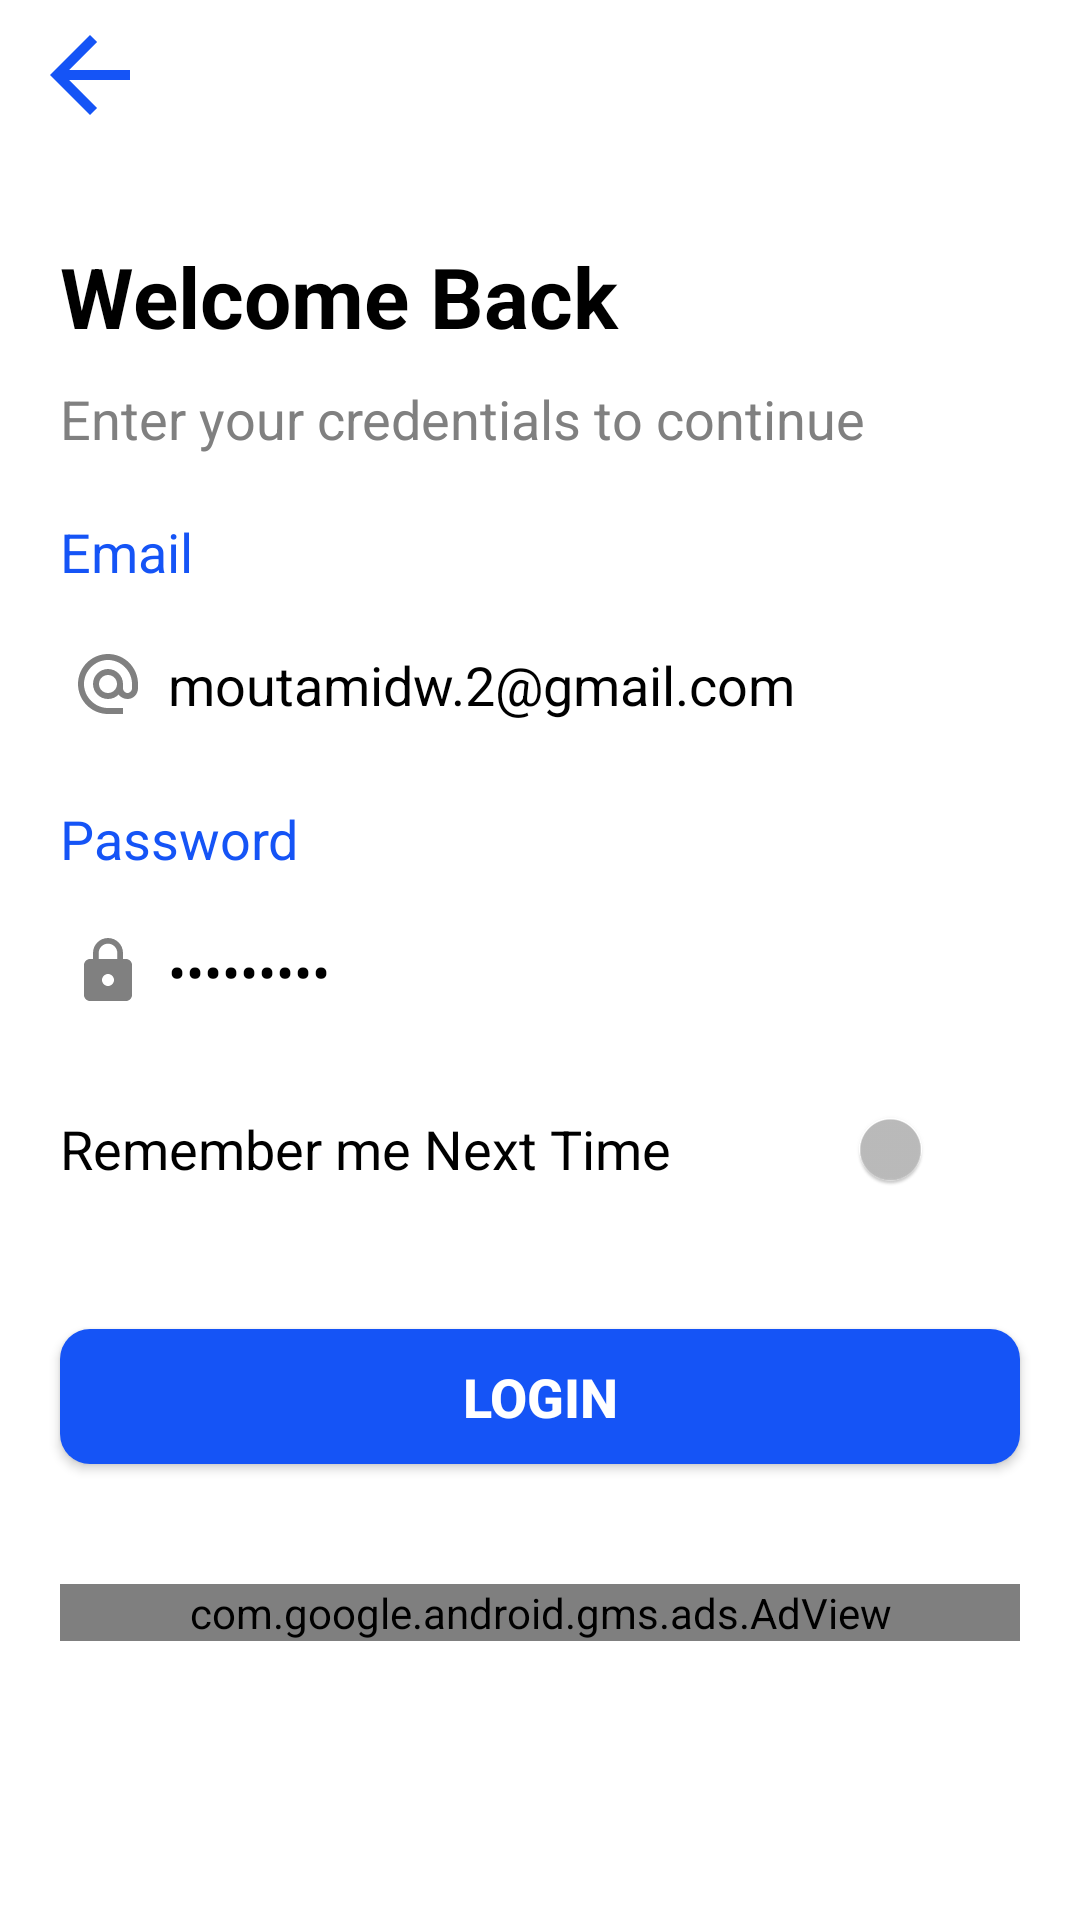

Icon bounding boxes for this 1080*1920 phone screenshot, format box(x1, y1, x2, y2):
arrow back: box(50, 35, 130, 115)
